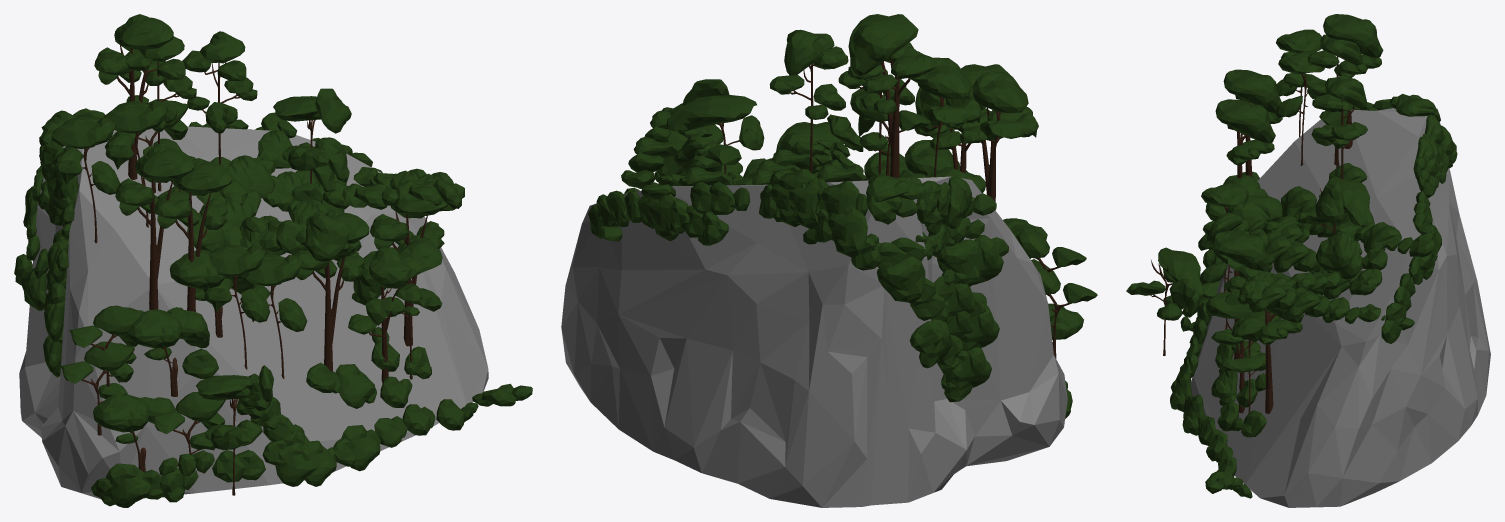
File: SM_cliff_vegetation_03.fbx
3 views of the same model, side by side, from view 1: azimuth 30°, elevation 25°; view 2: azimuth 150°, elevation 25°; view 3: azimuth 270°, elevation 25° (orthographic). The views are drawn at different scales.
Parts seen in each view (by area): view 1: Object138; view 2: Object138; view 3: Object138.
Part boxes in pixels (left/top/right/bottom): Object138: left=14, top=14, right=532, bottom=507; Object138: left=561, top=14, right=1097, bottom=507; Object138: left=1126, top=14, right=1490, bottom=507.
Size of the model in its own units: 1999 by 1770 by 1582.
